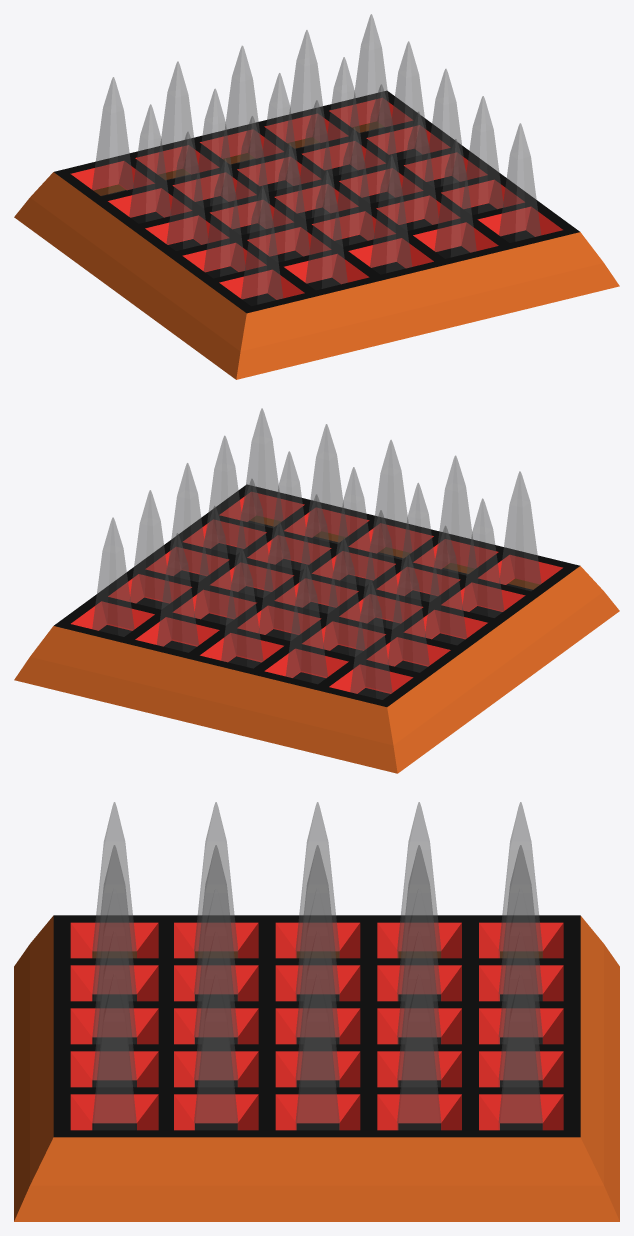
The model's file is kolia.fbx.
3 views of the same model, one above another, from view 1: azimuth 30°, elevation 25°; view 2: azimuth 150°, elevation 25°; view 3: azimuth 270°, elevation 25° (orthographic). The views are drawn at different scales.
Visible parts, largest first — view 1: Cube, Cube.001; view 2: Cube, Cube.001; view 3: Cube, Cube.001.
Part boxes in pixels (x1,y1,x2,y2): Cube: (14,90,619,379); Cube.001: (92,14,541,305); Cube: (14,484,619,773); Cube.001: (92,408,541,699); Cube: (14,915,619,1221); Cube.001: (92,802,542,1129).
Size of the model in its own units: 1425 by 1430 by 537.
